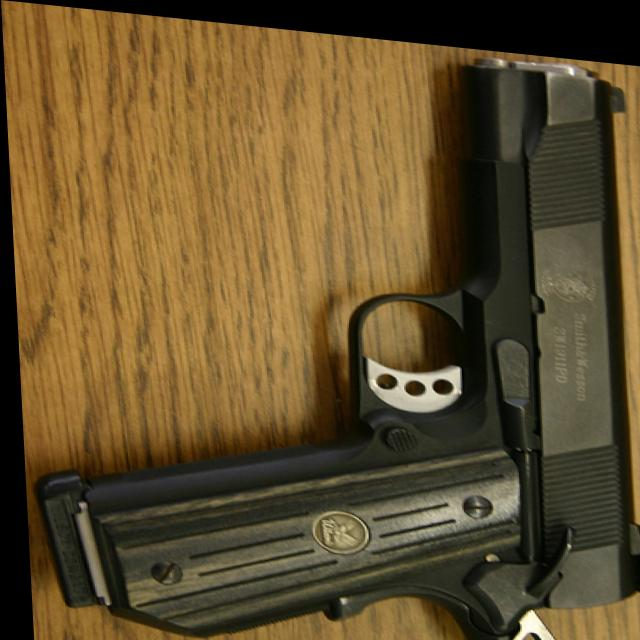handgun: (12, 7, 640, 640)
